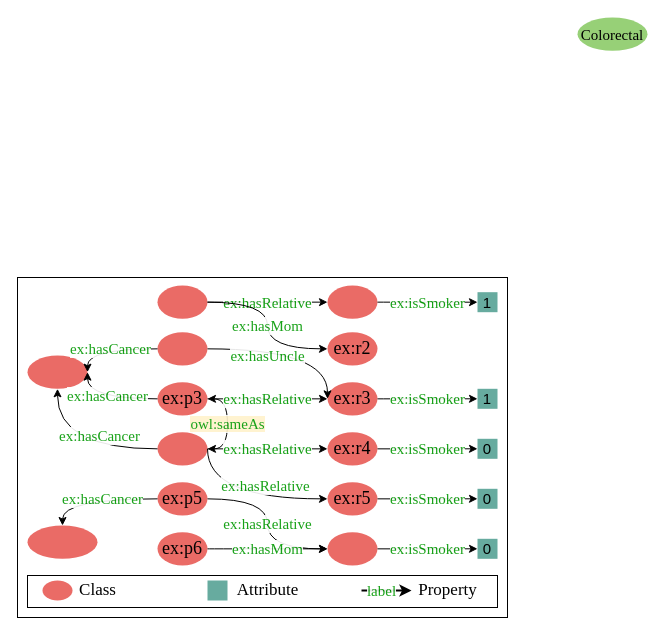
Image size: 665x635. Some labels were removed from this diagram. The shapes that lost their labels are listed below. From the top down, each one's box as (x1, y1, x2, y2) in pixels, then its label:
(157, 285, 207, 318): ex:p1
(327, 285, 377, 318): ex:r1
(157, 332, 207, 365): ex:p2
(27, 355, 87, 388): ex:Lung
(157, 432, 207, 465): ex:p4
(27, 525, 97, 558): ex:Breast
(327, 532, 377, 565): ex:r6
